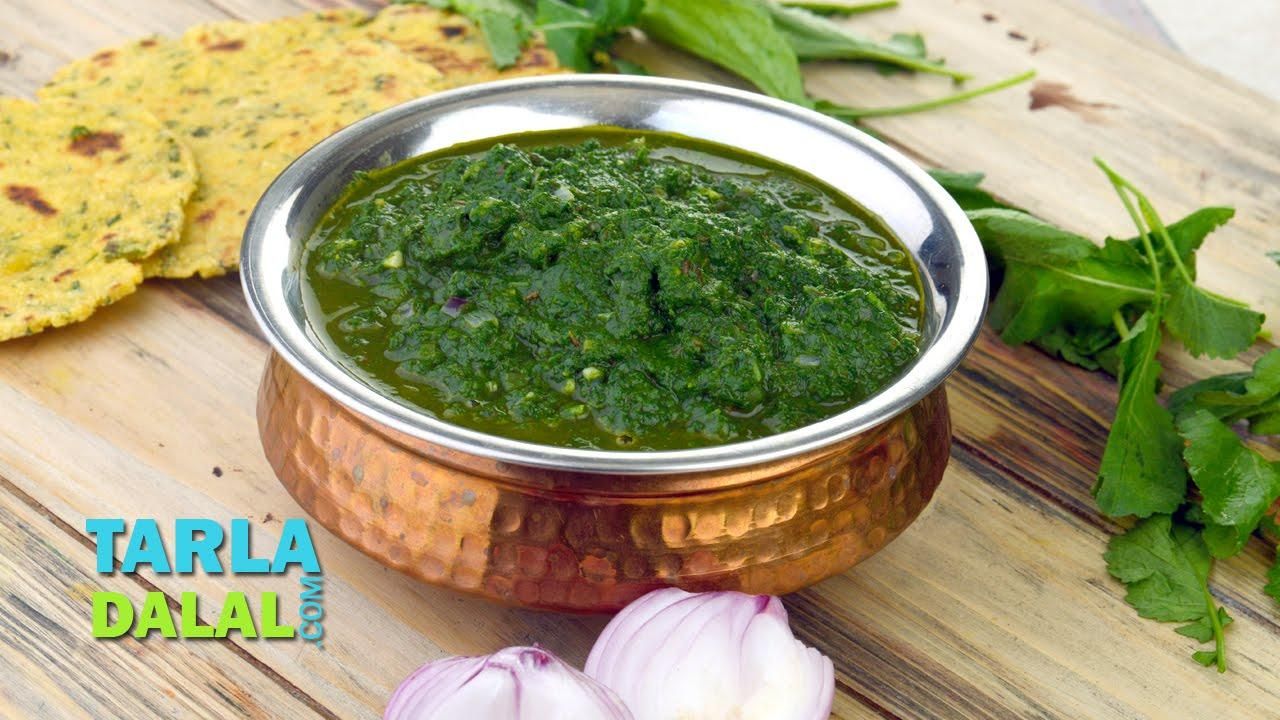saag: (314, 132, 919, 454)
